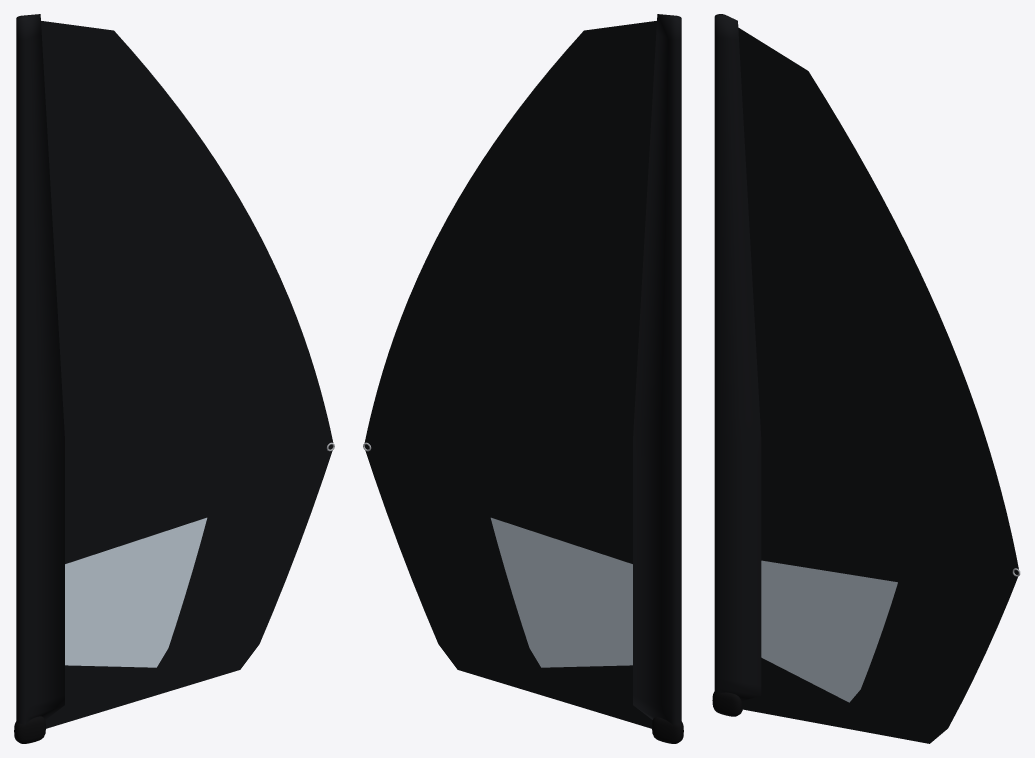
The model's file is point9_slalom_5_9.glb.
3 views of the same model, side by side, from view 1: azimuth 30°, elevation 25°; view 2: azimuth 150°, elevation 25°; view 3: azimuth 330°, elevation 25° (orthographic). The views are drawn at different scales.
Visible parts, largest first — view 1: SailCloth, TackFairing; view 2: SailCloth, TackFairing; view 3: SailCloth, TackFairing.
Boxes of the visible parts, left/top/right/bottom form: SailCloth: left=16, top=14, right=333, bottom=728; TackFairing: left=14, top=716, right=45, bottom=743; SailCloth: left=364, top=14, right=681, bottom=728; TackFairing: left=652, top=717, right=683, bottom=743; SailCloth: left=714, top=14, right=1018, bottom=743; TackFairing: left=712, top=691, right=742, bottom=716.
Size of the model in its own units: 1.97 by 4.29 by 0.08.
